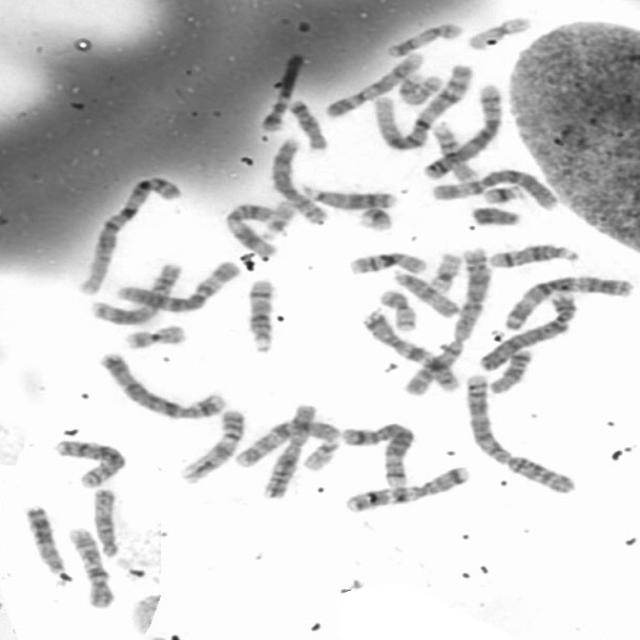A1: (74, 171, 186, 296), (370, 57, 477, 151)
A2: (459, 369, 580, 496), (396, 242, 495, 397)
A3: (499, 270, 636, 331)
B4: (95, 347, 232, 421), (474, 286, 581, 372)
B5: (419, 77, 506, 181), (338, 418, 420, 490)
C10: (229, 414, 342, 468), (63, 522, 118, 610)
C11: (84, 257, 185, 327), (220, 199, 280, 257)
C12: (255, 51, 307, 132)
C6: (108, 255, 244, 315), (426, 164, 560, 211)
C7: (358, 305, 466, 393), (340, 461, 473, 514)
C8: (267, 133, 331, 226), (48, 434, 130, 489)
C9: (318, 46, 428, 120), (176, 404, 248, 486)
D13: (19, 500, 68, 576), (297, 180, 398, 210)
D14: (483, 238, 582, 269), (242, 274, 280, 354)
D15: (388, 264, 462, 320), (87, 483, 123, 559)
E16: (426, 116, 478, 183), (344, 246, 429, 276)
E17: (382, 18, 466, 58), (393, 68, 439, 105)
E18: (284, 94, 331, 152), (484, 344, 536, 394)
F19: (462, 11, 535, 52), (424, 248, 464, 294)
F20: (373, 285, 420, 333), (121, 319, 190, 350)
G21: (353, 202, 396, 233), (478, 180, 527, 205)
G22: (258, 196, 300, 240), (298, 435, 342, 472)
X: (258, 399, 318, 500)
Y: (466, 202, 524, 228)
